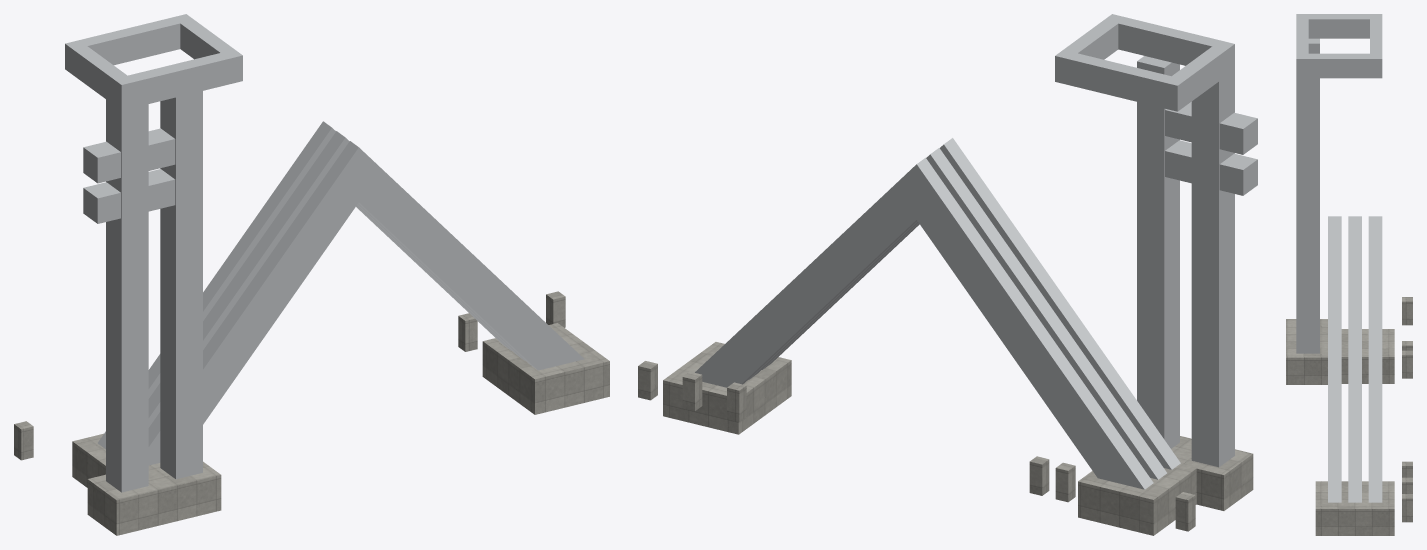
The picture shows the model from 3 angles, left to right: view 1: azimuth 30°, elevation 25°; view 2: azimuth 150°, elevation 25°; view 3: azimuth 270°, elevation 25°; orthographic projection. The views are drawn at different scales.
Visible parts, largest first — view 1: shaGate__steel, shaGate__stone; view 2: shaGate__steel, shaGate__stone; view 3: shaGate__steel, shaGate__stone.
Part boxes in pixels (bbox=[...]): shaGate__steel: bbox=[65, 14, 584, 492]; shaGate__stone: bbox=[14, 291, 609, 535]; shaGate__steel: bbox=[695, 14, 1257, 489]; shaGate__stone: bbox=[638, 342, 1253, 535]; shaGate__steel: bbox=[1296, 14, 1382, 502]; shaGate__stone: bbox=[1286, 297, 1412, 535].
Bounding box in the file's own units: 21.08 × 16.4 × 5.6.
Materials: 2 (1 with a texture image).
